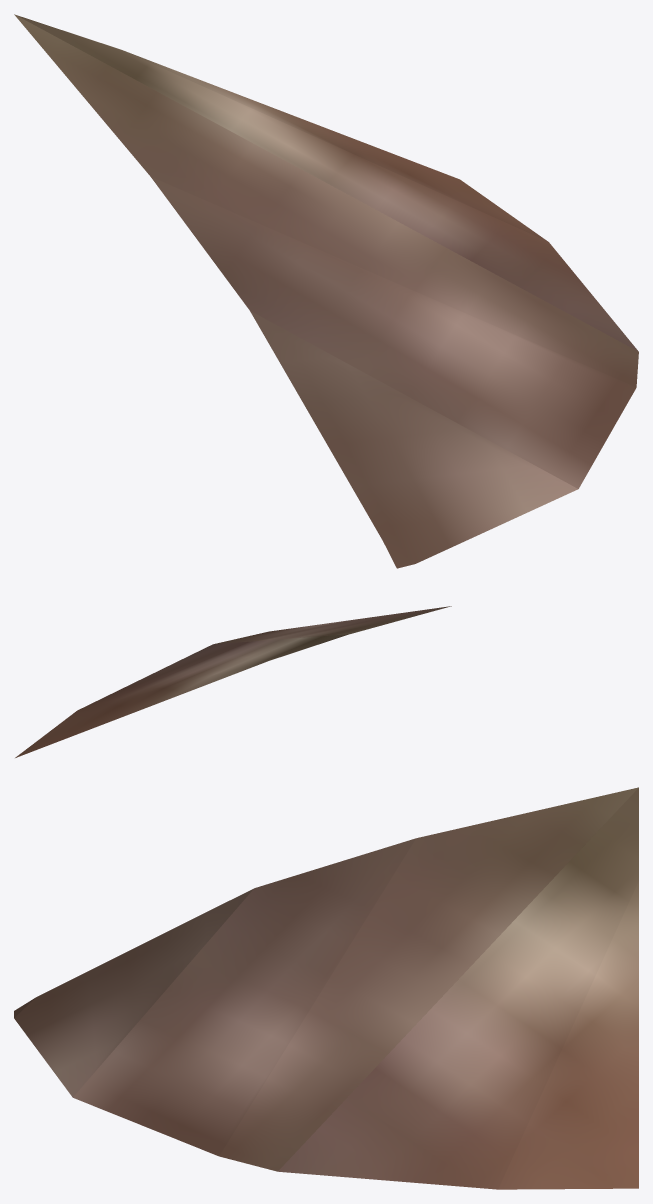
The picture shows the model from 3 angles, top to bottom: view 1: azimuth 30°, elevation 25°; view 2: azimuth 150°, elevation 25°; view 3: azimuth 270°, elevation 25°; orthographic projection. The views are drawn at different scales.
Size of the model in its own units: 0.0319 by 0.0186 by 0.0472.
1 material, 1 textured.
